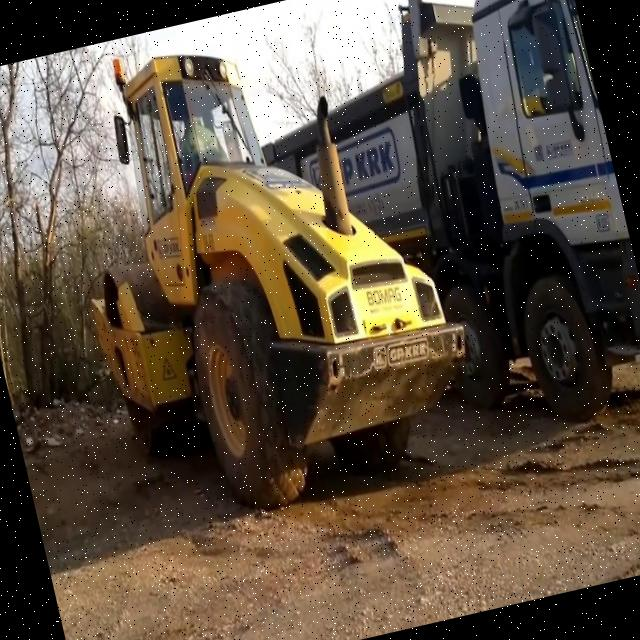Dump Truck: (350, 0, 640, 436)
Roller: (44, 0, 484, 532)
